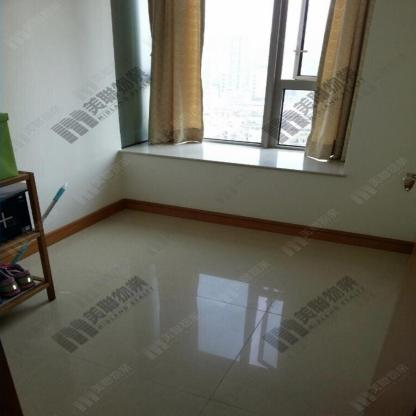Windowsill: (110, 0, 375, 178)
